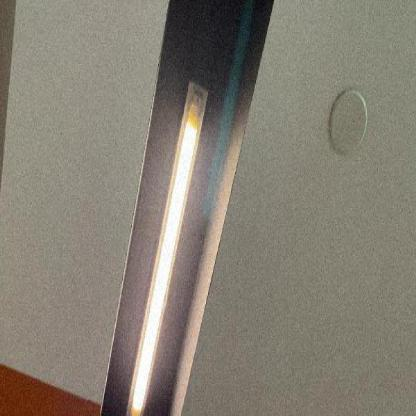light_on: (120, 69, 218, 415)
